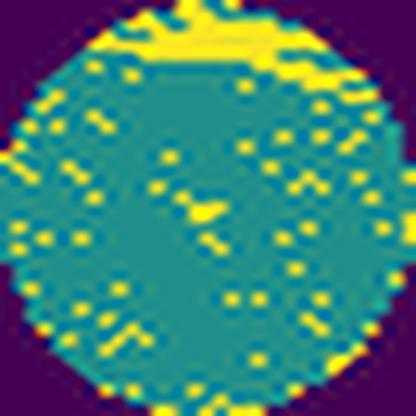Edge-Loc: (83, 0, 389, 105)
